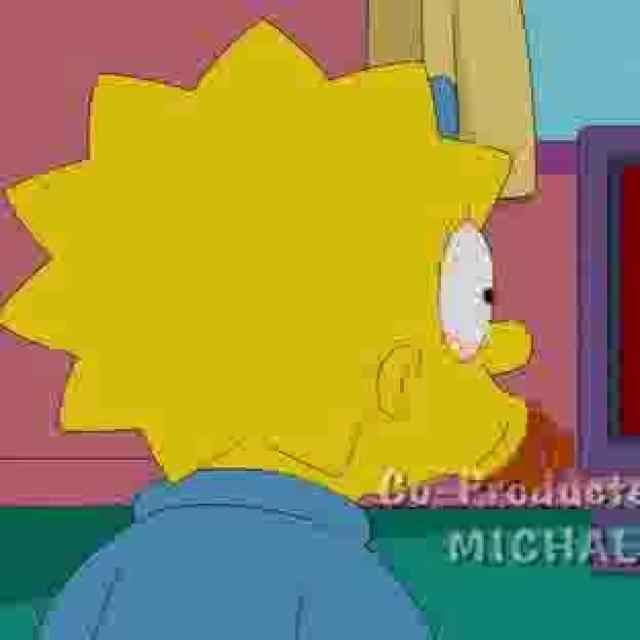Maggie Simpson: (7, 16, 536, 516)
